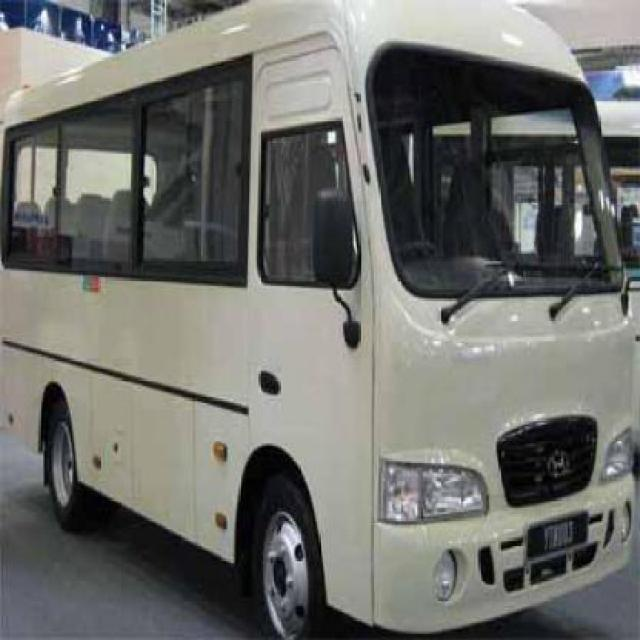bus: (10, 16, 629, 634)
